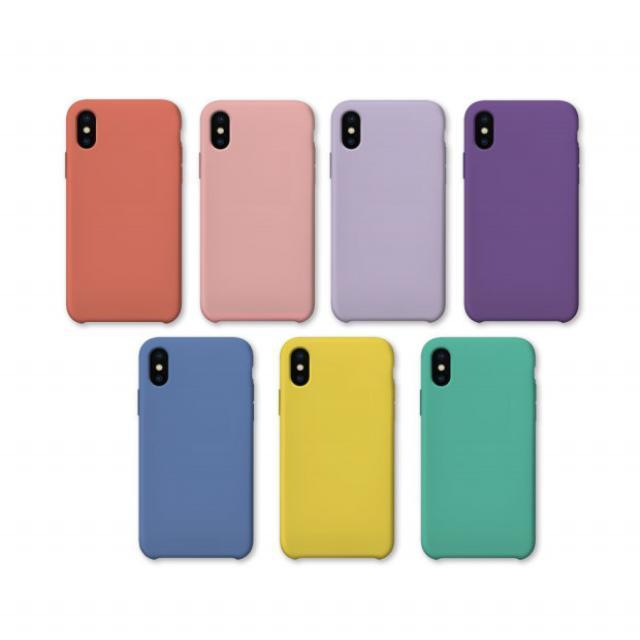phone: (64, 97, 183, 323), (418, 335, 537, 561), (329, 98, 447, 324), (462, 99, 580, 323), (278, 336, 396, 560), (137, 337, 255, 560), (198, 100, 316, 322)
